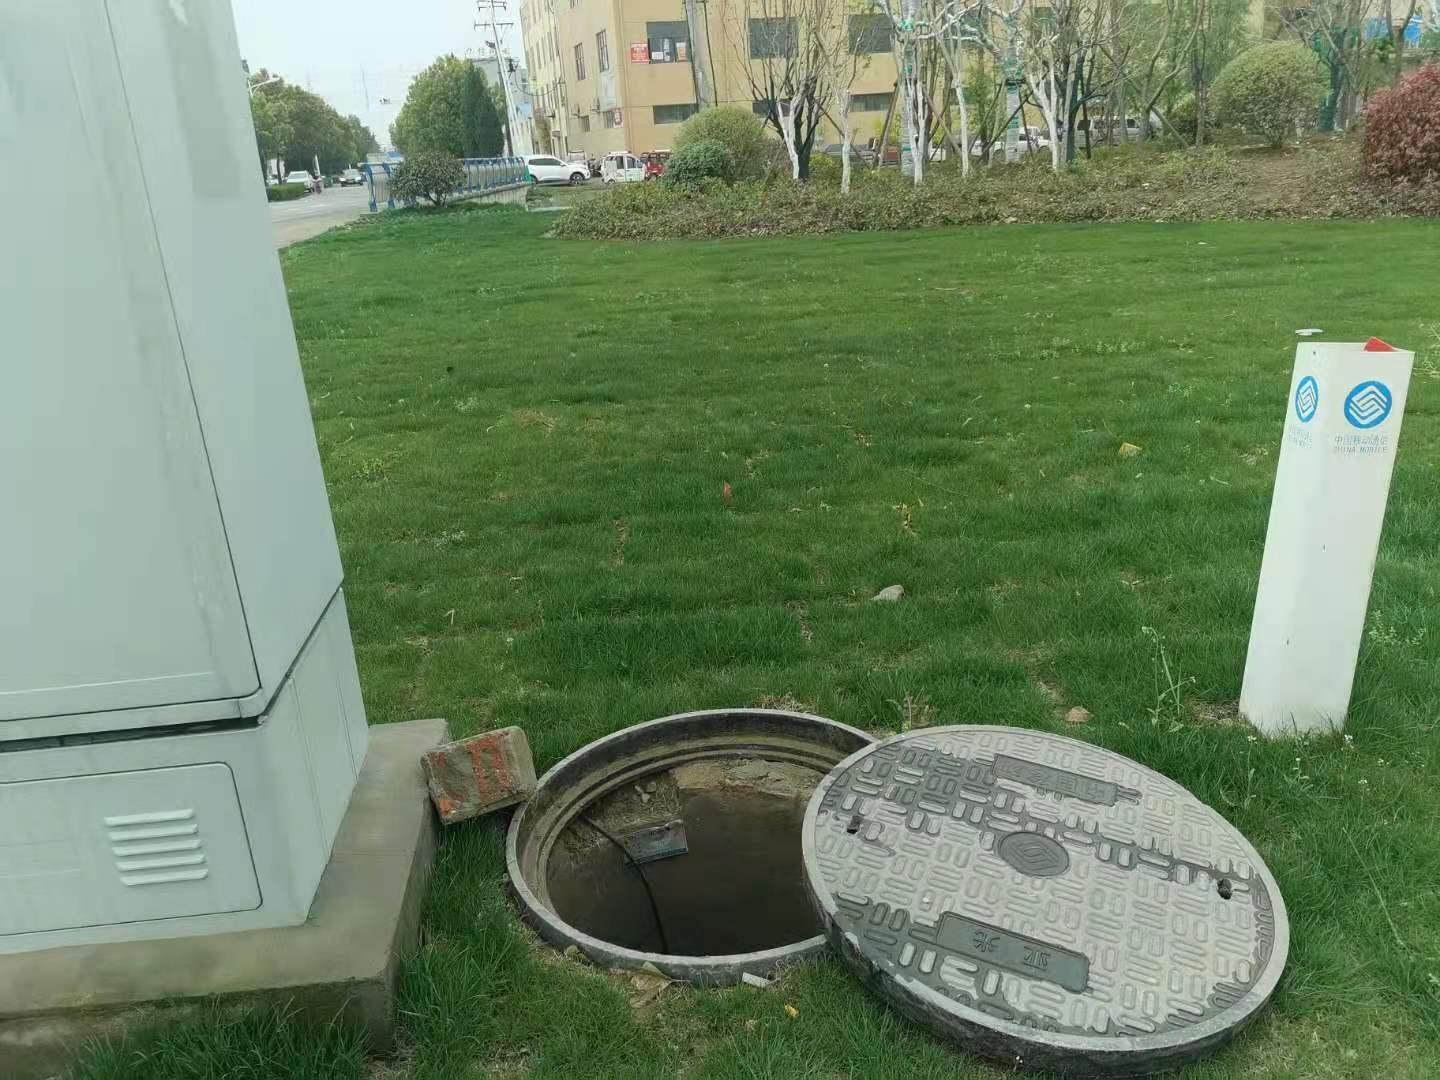wellcover: (501, 695, 1298, 1066)
